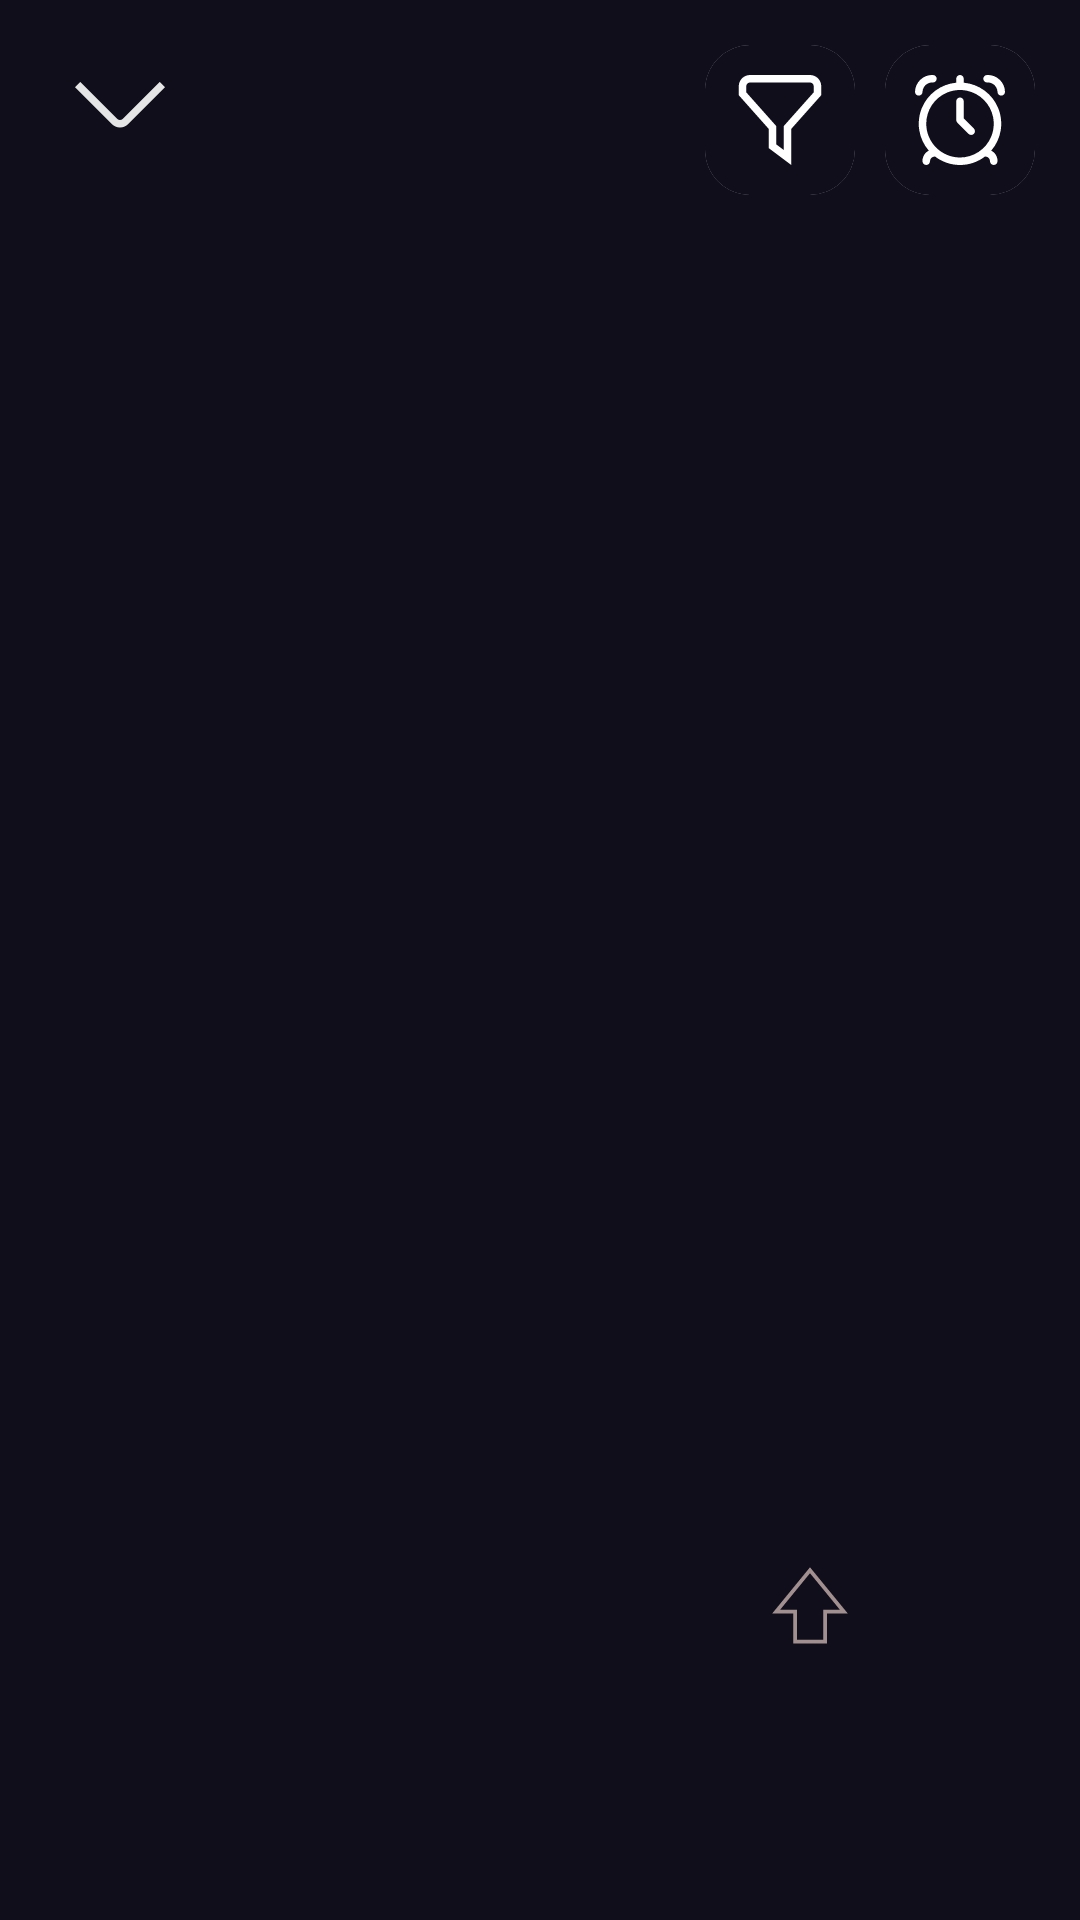

Icon click points for this 1080*1920 phone screenshot, format [x,y]:
filter: [780,120]
timer home: [960,120]
